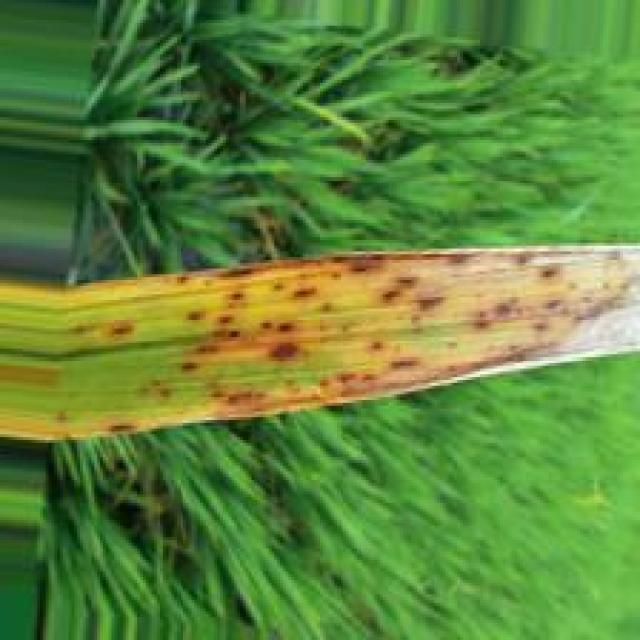Narrow_Brown_Leaf_Spot: (45, 239, 640, 444)
